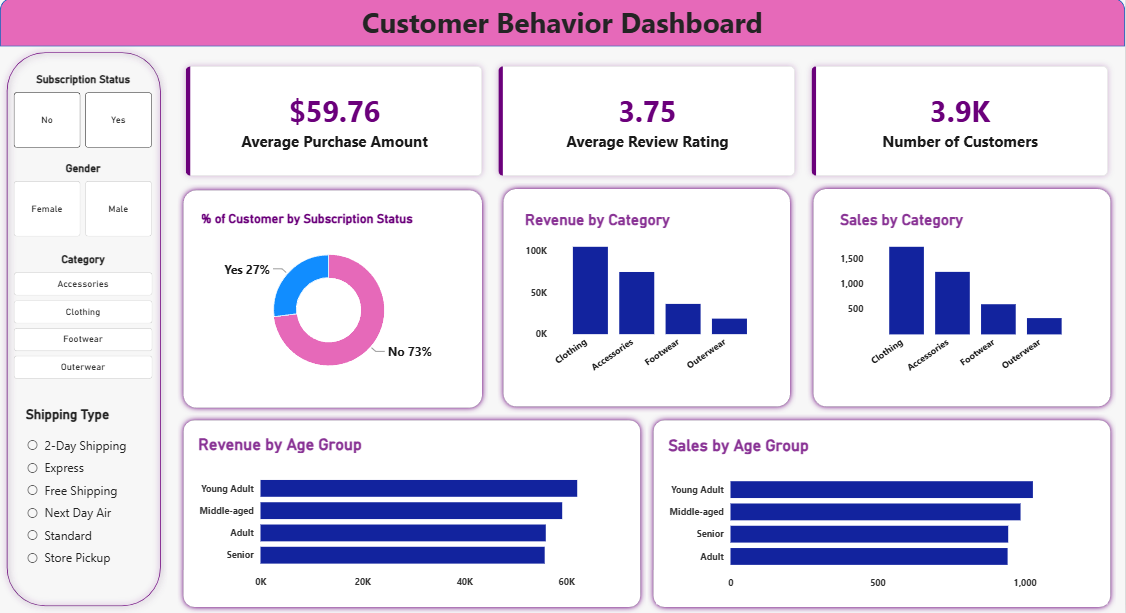

The page's visual inventory and layout, read from the dashboard file:
{"tool":"powerbi","page":{"name":"Page 1","canvas":[1500,820],"ordinal":0},"visuals":[{"type":"cardVisual","fields":{"Data":["public customer.Average Purchase Amount","public customer.Average Review Rating","public customer.Number of Customers"]},"box":[236.7,80,1251.7,168.3],"z":0},{"type":"shape","box":[0,0,1500,64.8],"z":1000},{"type":"textbox","box":[0,7.4,1500,70.4],"z":2000},{"type":"textbox","box":[1511,124,409,153],"z":3000},{"type":"shape","box":[664,246,398,306],"z":4000},{"type":"shape","box":[236,248,414,306],"z":6000},{"type":"shape","box":[1076,246,412,306],"z":7000},{"type":"clusteredColumnChart","title":"Revenue by Category","fields":{"Category":["public customer.category"],"Y":["Sum(public customer.purchase_amount)"]},"box":[684,268,356.7,261.7],"z":8000},{"type":"donutChart","title":"% of Customer by Subscription Status","fields":{"Category":["public customer.subscription_status"],"Y":["CountNonNull(public customer.customer_id)"]},"box":[252,268,374,262],"z":8001},{"type":"clusteredColumnChart","title":"Sales by Category","fields":{"Category":["public customer.category"],"Y":["CountNonNull(public customer.customer_id)"]},"box":[1104,268,356,262],"z":8002},{"type":"shape","box":[0,63.3,223.3,756.7],"z":8003},{"type":"advancedSlicerVisual","fields":{"Values":["public customer.subscription_status"]},"box":[18.3,100,185,100],"z":8004},{"type":"advancedSlicerVisual","fields":{"Values":["public customer.gender"]},"box":[18.3,218.3,185,100],"z":8005},{"type":"advancedSlicerVisual","fields":{"Values":["public customer.category"]},"box":[18.3,340,185,168.3],"z":8006},{"type":"listSlicer","fields":{"Values":["public customer.shipping_type"]},"box":[18.3,530,185,251.7],"z":8007},{"type":"shape","box":[236.7,555,625,265],"z":8009},{"type":"clusteredBarChart","title":"Revenue by Age Group","fields":{"Category":["public customer.age_group"],"Y":["Sum(public customer.purchase_amount)"]},"box":[248.3,568.3,601.7,238.3],"z":8010},{"type":"shape","box":[863.3,555,625,265],"z":8011},{"type":"clusteredBarChart","title":"Sales by Age Group","fields":{"Category":["public customer.age_group"],"Y":["CountNonNull(public customer.customer_id)"]},"box":[875,570,601.7,238.3],"z":8012}]}

Visuals, with their boxes in screenshot pixels (x1, y1, x2, y2), scaled from the page's 1500x820 canvas onto the 1126x613 screenshot:
cardVisual - public customer.Average Purchase Amount x public customer.Average Review Rating: x1=178, y1=60, x2=1117, y2=186
shape: x1=0, y1=0, x2=1125, y2=48
textbox: x1=0, y1=6, x2=1125, y2=58
shape: x1=498, y1=184, x2=797, y2=413
shape: x1=177, y1=185, x2=488, y2=414
shape: x1=808, y1=184, x2=1117, y2=413
"Revenue by Category" clusteredColumnChart: x1=513, y1=200, x2=781, y2=396
"% of Customer by Subscription Status" donutChart: x1=189, y1=200, x2=470, y2=396
"Sales by Category" clusteredColumnChart: x1=829, y1=200, x2=1096, y2=396
shape: x1=0, y1=47, x2=168, y2=612
advancedSlicerVisual - public customer.subscription_status: x1=14, y1=75, x2=153, y2=150
advancedSlicerVisual - public customer.gender: x1=14, y1=163, x2=153, y2=238
advancedSlicerVisual - public customer.category: x1=14, y1=254, x2=153, y2=380
listSlicer - public customer.shipping_type: x1=14, y1=396, x2=153, y2=584
shape: x1=178, y1=415, x2=647, y2=612
"Revenue by Age Group" clusteredBarChart: x1=186, y1=425, x2=638, y2=603
shape: x1=648, y1=415, x2=1117, y2=612
"Sales by Age Group" clusteredBarChart: x1=657, y1=426, x2=1109, y2=604
